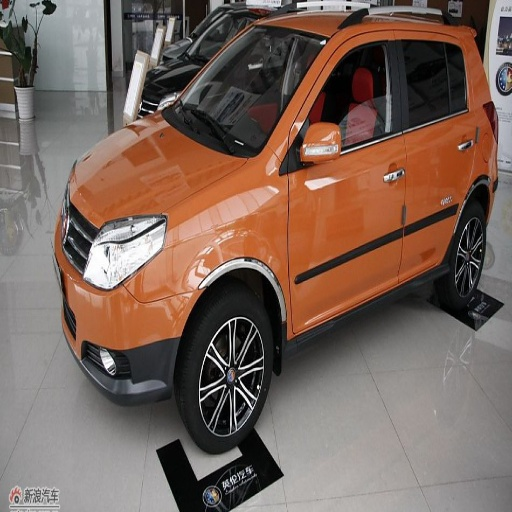front_bumper: (62, 263, 196, 399)
front_glass: (166, 16, 329, 155)
front_left_door: (287, 31, 406, 330)
